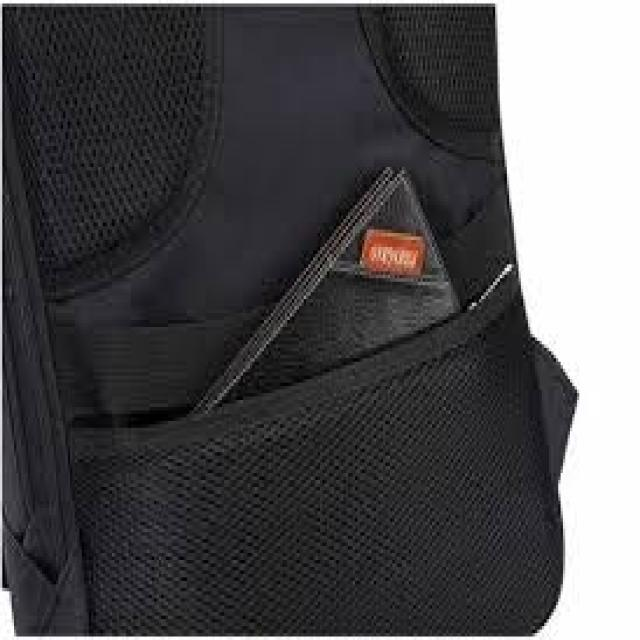backpack: (1, 5, 578, 634)
